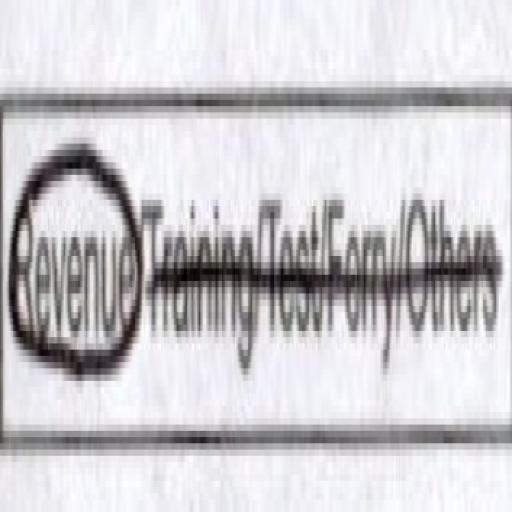check: (0, 43, 140, 512)
